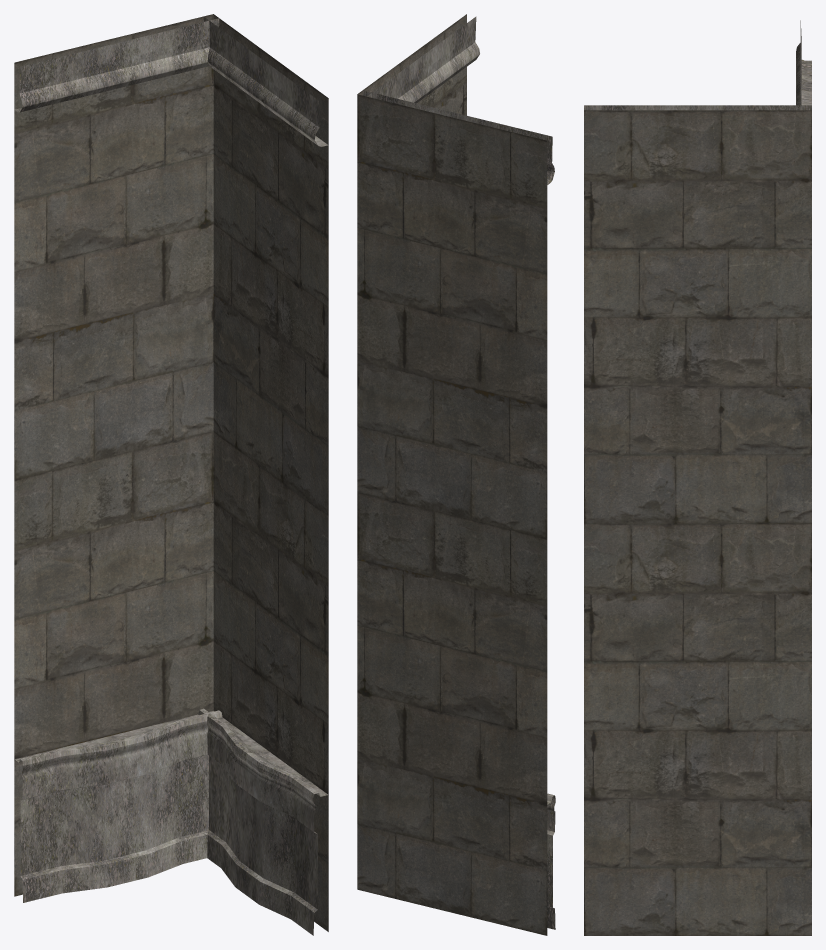
Rendered from SM_Wall_Stone_02.fbx.
3 views of the same model, side by side, from view 1: azimuth 30°, elevation 25°; view 2: azimuth 150°, elevation 25°; view 3: azimuth 270°, elevation 25° (orthographic). The views are drawn at different scales.
Visible parts, largest first — view 1: SM_Wall_Stone_02; view 2: SM_Wall_Stone_02; view 3: SM_Wall_Stone_02.
Boxes of the visible parts, left/top/right/bottom form: SM_Wall_Stone_02: left=14, top=14, right=328, bottom=935; SM_Wall_Stone_02: left=357, top=14, right=555, bottom=935; SM_Wall_Stone_02: left=584, top=20, right=811, bottom=935.
Bounding box in the file's own units: 100 × 400 × 100.
